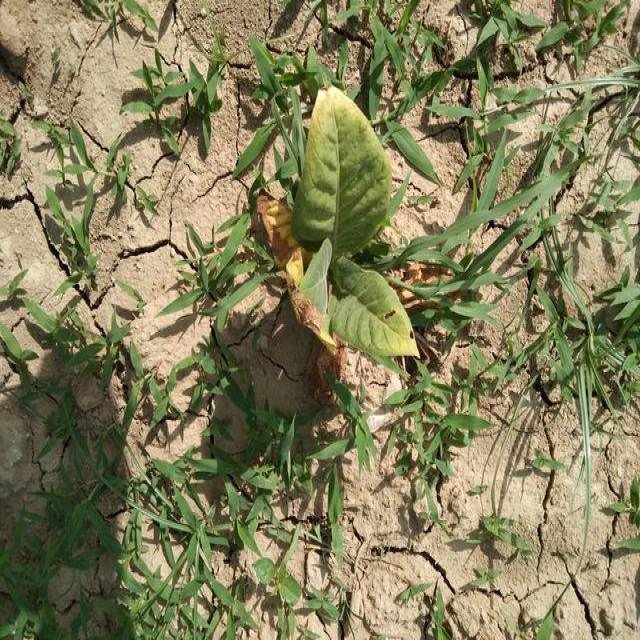crop: (286, 70, 423, 375)
